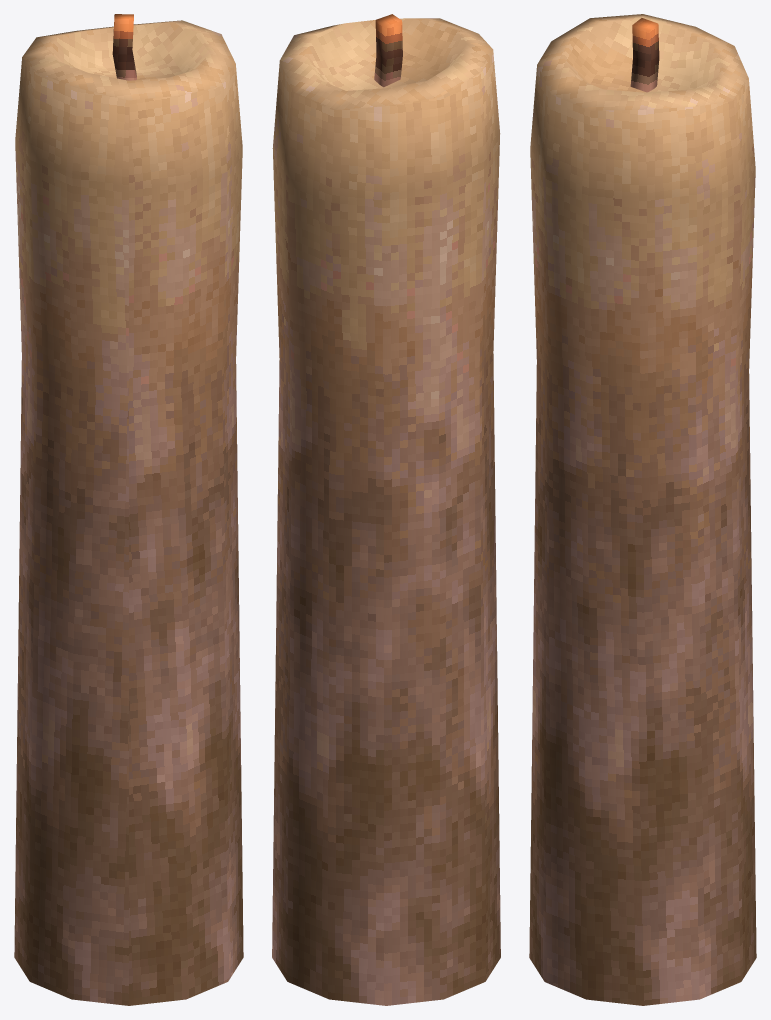
The model's file is candle_stage0.glb.
3 views of the same model, side by side, from view 1: azimuth 30°, elevation 25°; view 2: azimuth 150°, elevation 25°; view 3: azimuth 270°, elevation 25° (orthographic).
Visible parts, largest first — view 1: candle_stage0; view 2: candle_stage0; view 3: candle_stage0.
Part boxes in pixels (bbox=[...]): candle_stage0: bbox=[14, 14, 243, 1005]; candle_stage0: bbox=[272, 14, 500, 1005]; candle_stage0: bbox=[529, 14, 756, 1005].
Bounding box in the file's own units: 0.1051 × 0.4764 × 0.1051.
Materials: 1 (1 with a texture image).
